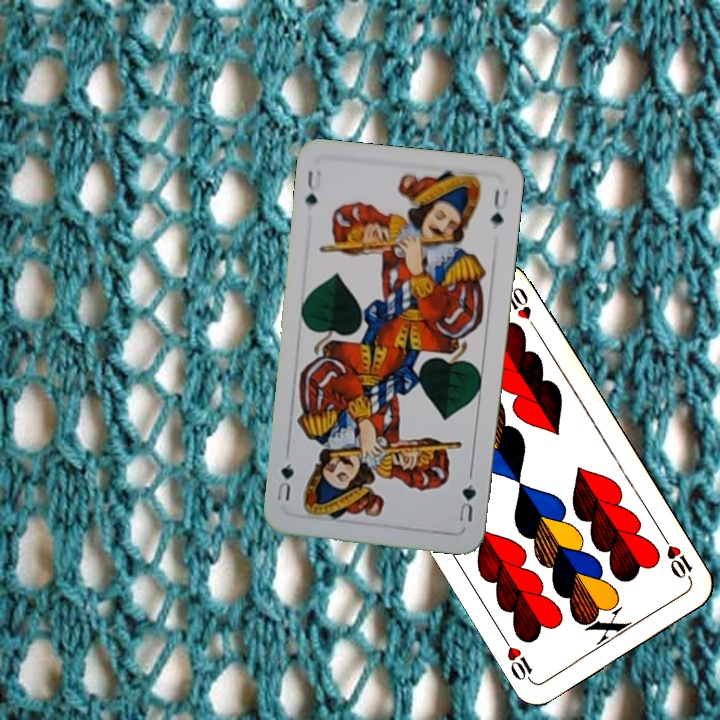GU: (455, 478, 479, 524), (301, 166, 324, 209)
H10: (658, 531, 695, 584)
